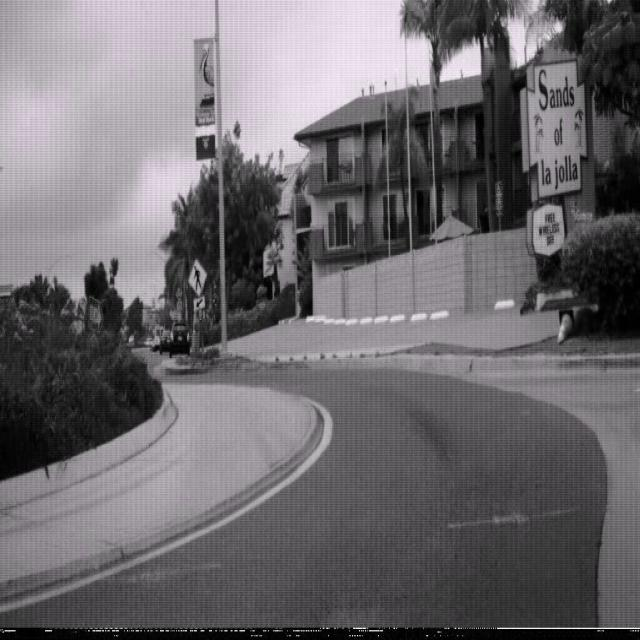pedestrianCrossing: (188, 256, 208, 298)
